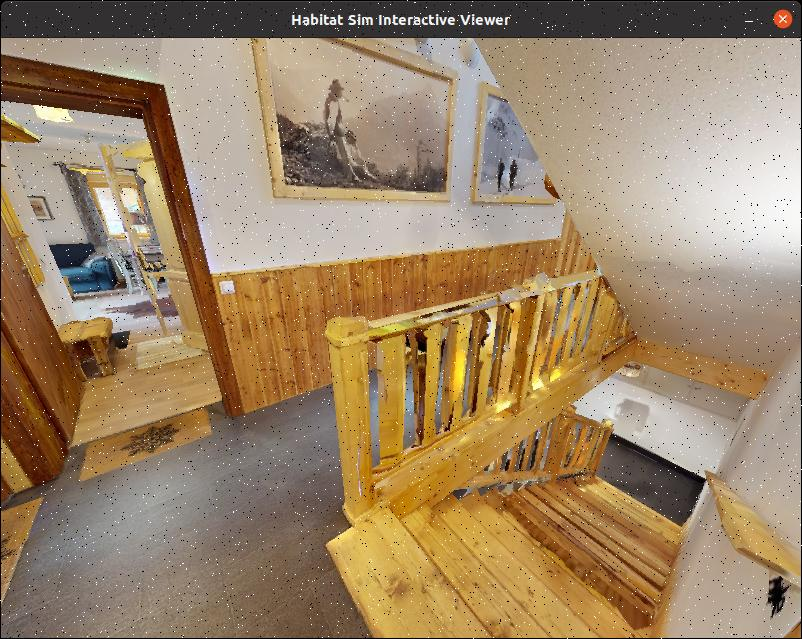door-frame: (0, 84, 240, 469)
stairs: (335, 275, 756, 639)
